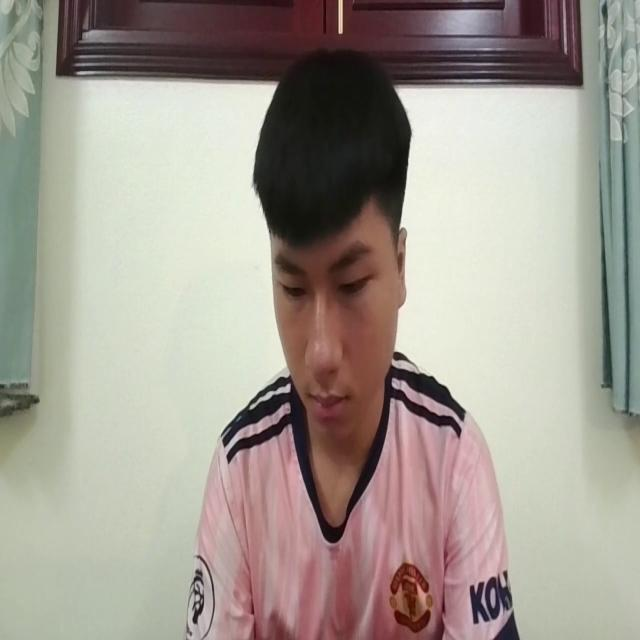student: (184, 42, 516, 640)
